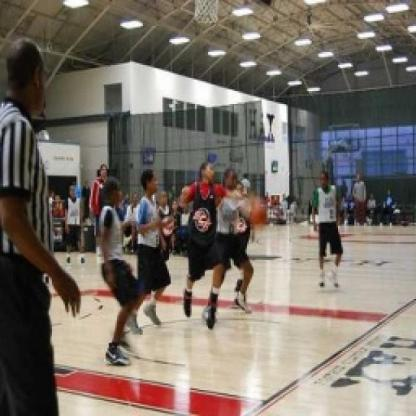basketball: (243, 193, 271, 228)
